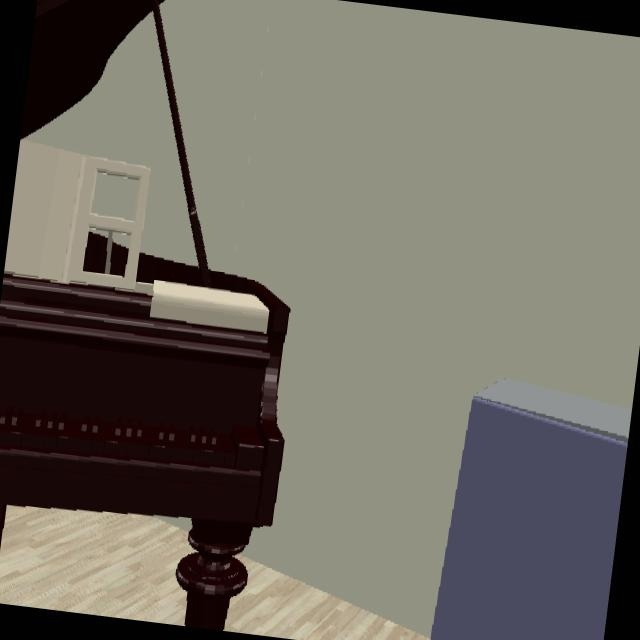cabinet: (431, 379, 630, 640)
